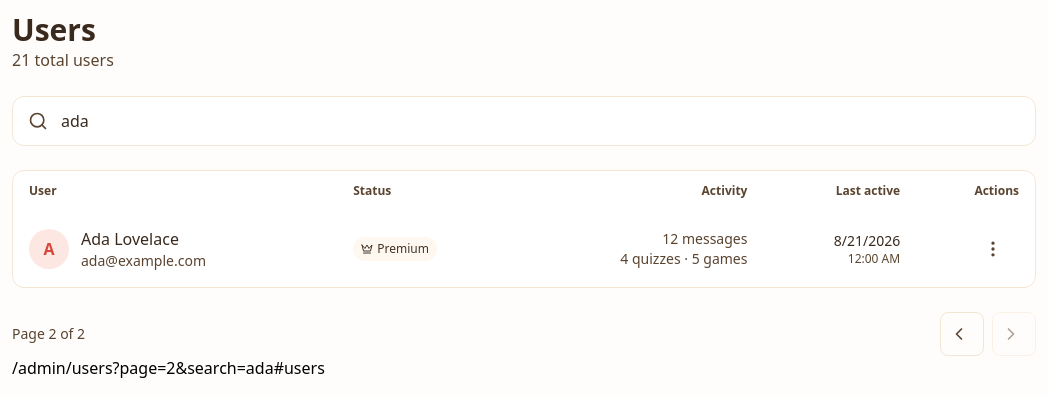
Scenario: restorable admin user navigation › restores search and page state and carries the exact list context into detail
Expected: the field named "Search users" holds "ada", 12,96 -> 1036,146
Step 1. Click the link "Ada Lovelace" → (130, 239), box 81,228 -> 179,250
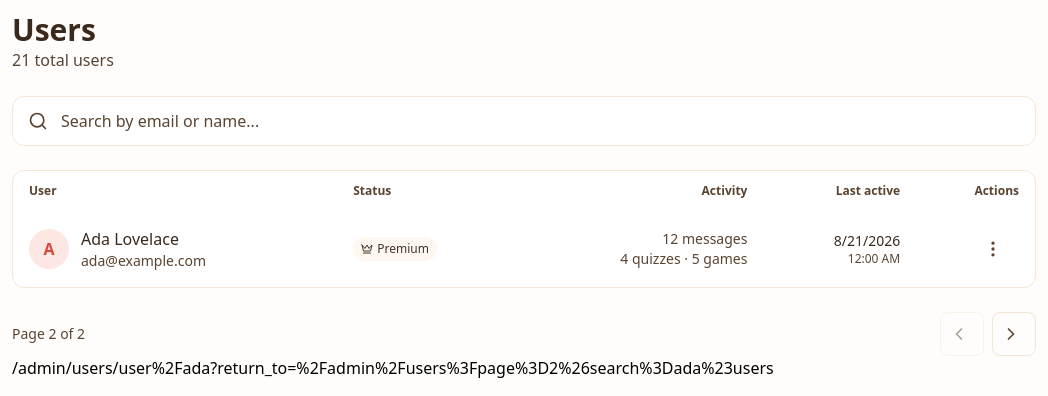
Result: the text with test id "location" shows "/admin/users/user%2Fada?return_to=%2Fadmin%2Fusers%3Fpage%3D2%26search%3Dada%23users" at 12,357 -> 774,379
